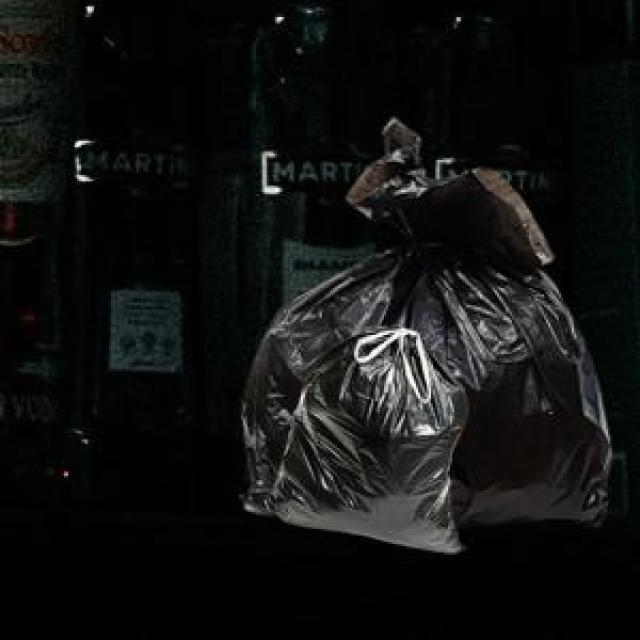waste: (242, 118, 610, 552)
